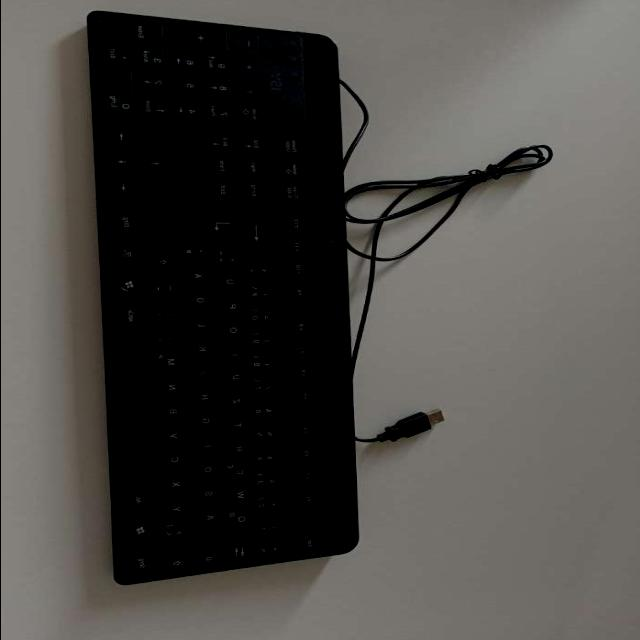0: (249, 307, 277, 329)
1: (257, 516, 285, 538)
2: (257, 493, 283, 515)
3: (256, 471, 284, 493)
4: (254, 447, 282, 469)
5: (253, 424, 281, 444)
6: (252, 400, 280, 422)
7: (252, 378, 280, 398)
8: (250, 354, 278, 376)
9: (249, 331, 277, 351)
a: (193, 507, 223, 529)
accent: (247, 261, 275, 281)
ae: (183, 266, 213, 288)
alt-left: (125, 488, 157, 519)
altgr-right: (117, 304, 149, 334)
b: (157, 401, 187, 423)
c: (159, 449, 189, 473)
caret: (259, 540, 285, 562)
comma: (155, 329, 183, 349)
d: (193, 459, 221, 481)
del: (244, 214, 272, 258)
e: (224, 461, 254, 483)
enter: (181, 213, 241, 245)
f: (192, 435, 220, 457)
g: (190, 411, 218, 433)
h: (189, 387, 217, 409)
hash: (182, 242, 212, 264)
i: (219, 343, 247, 365)
j: (188, 362, 216, 384)
k: (188, 338, 216, 360)
keyboard: (85, 7, 359, 594)
l: (186, 316, 214, 336)
less: (162, 521, 192, 547)
m: (154, 352, 185, 374)
minus: (151, 279, 181, 301)
n: (155, 377, 185, 399)
o: (218, 321, 246, 341)
oe: (184, 290, 214, 312)
p: (217, 296, 245, 318)
plus: (215, 248, 243, 270)
point: (152, 304, 182, 324)
q: (226, 509, 254, 531)
r: (223, 438, 251, 460)
s: (193, 482, 221, 506)
shift-left: (163, 546, 191, 576)
shift-lock: (195, 530, 223, 571)
shift-right: (149, 213, 179, 276)
space: (119, 335, 154, 486)
ss: (248, 285, 276, 305)
strg-left: (127, 549, 158, 586)
strg-right: (113, 210, 144, 240)
t: (223, 415, 251, 437)
tab: (226, 532, 254, 566)
u: (220, 367, 248, 389)
ue: (216, 273, 244, 293)
v: (158, 425, 189, 447)
w: (225, 485, 255, 507)
x: (160, 473, 190, 497)
y: (160, 498, 190, 521)
z: (221, 391, 249, 413)
